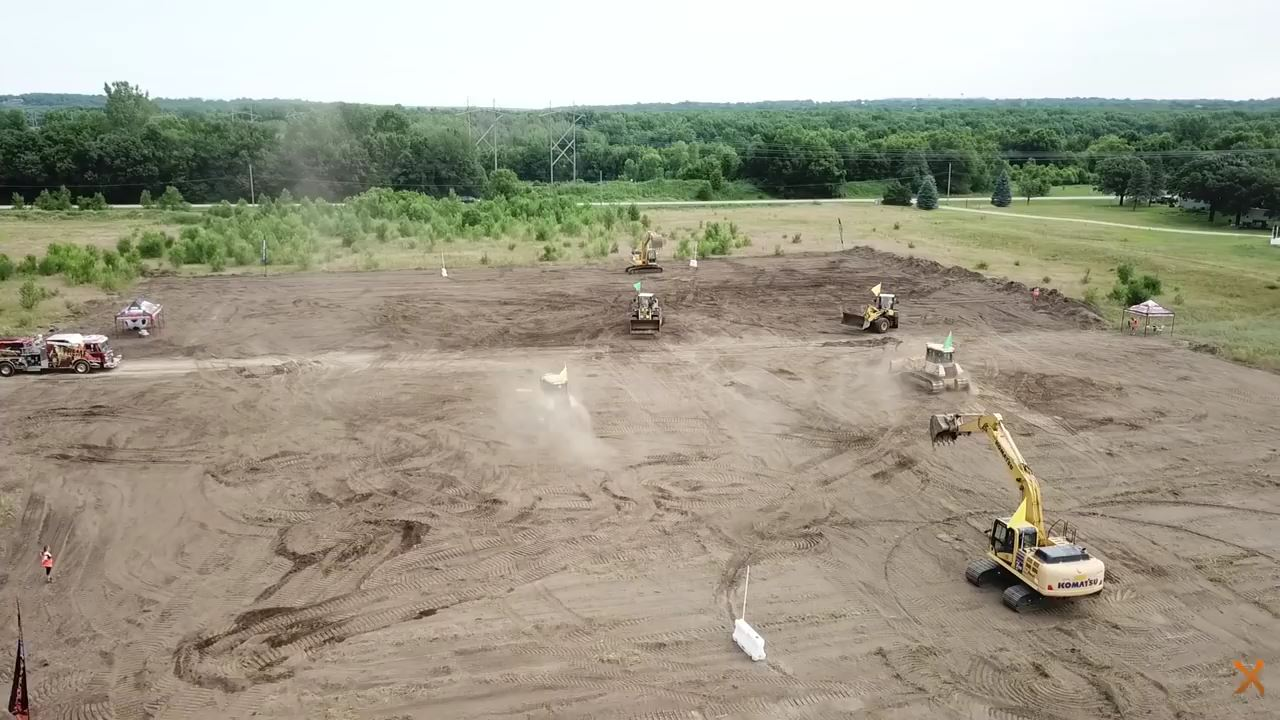con_eq: (919, 415, 1105, 615), (508, 360, 597, 443), (5, 332, 120, 381), (887, 341, 973, 397), (839, 293, 903, 333), (621, 227, 667, 278), (626, 290, 663, 339)
